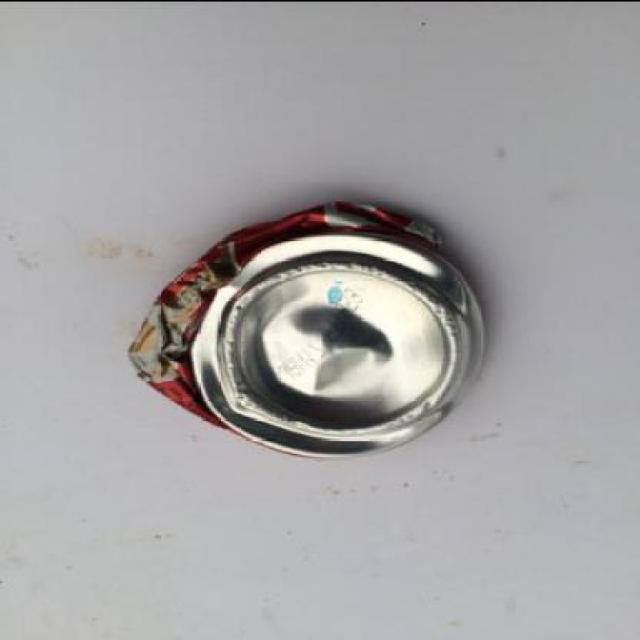METAL: (130, 200, 488, 460)
